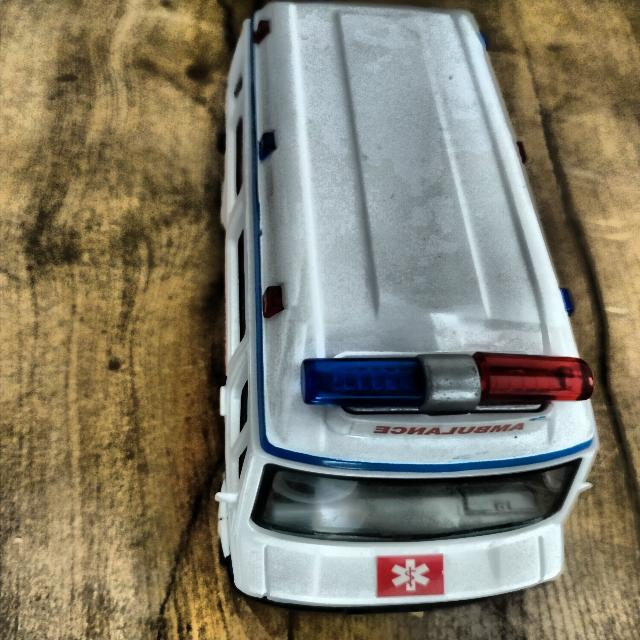Ambulance: (218, 2, 601, 623)
